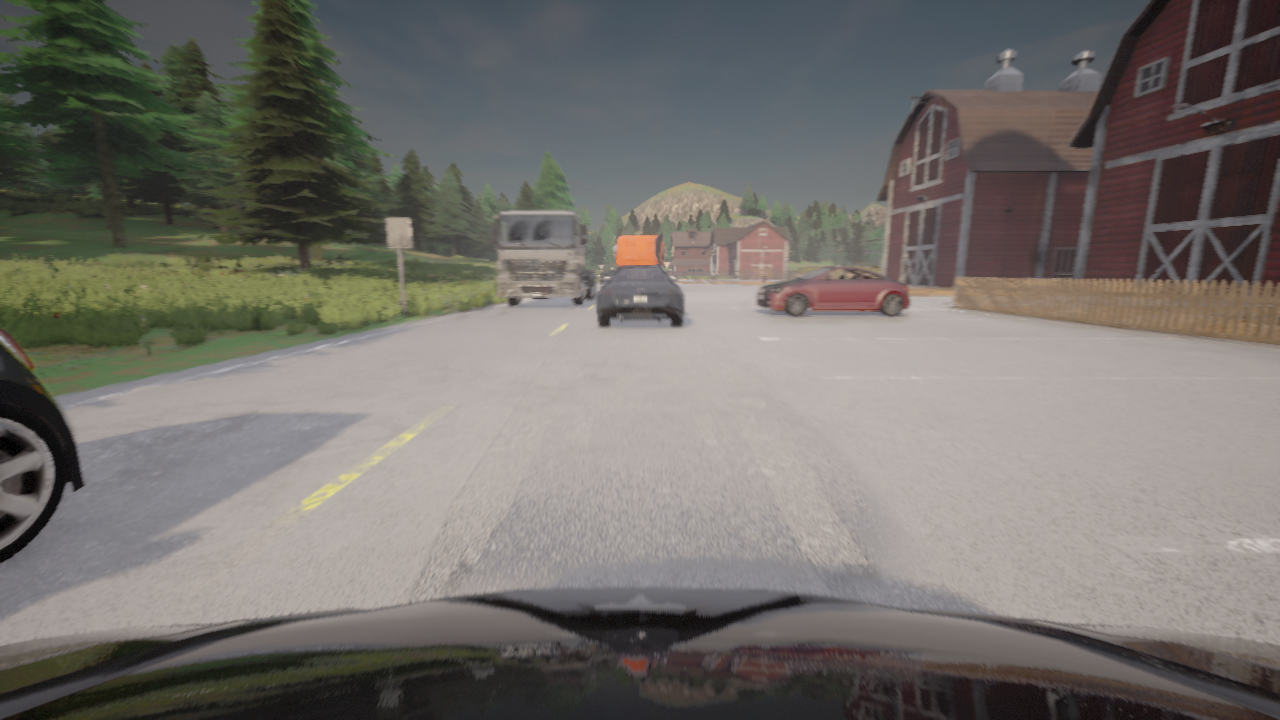cyclist: (0, 588, 1279, 719), (490, 211, 595, 305), (755, 267, 909, 316), (597, 266, 683, 326), (613, 234, 667, 275), (599, 272, 612, 283)
